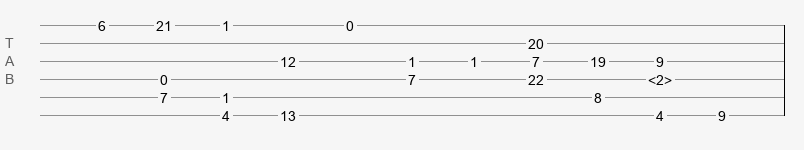0: (160, 72, 168, 82), (346, 18, 354, 28)
1: (222, 18, 230, 28), (222, 90, 230, 100), (408, 54, 416, 64), (470, 54, 478, 64)
12: (280, 54, 296, 64)
13: (280, 108, 296, 118)
19: (590, 54, 606, 64)
20: (528, 36, 544, 46)
21: (156, 18, 172, 28)
22: (528, 72, 544, 82)
4: (222, 108, 230, 118), (656, 108, 664, 118)
6: (98, 18, 106, 28)
7: (160, 90, 168, 100), (408, 72, 416, 82), (532, 54, 540, 64)
8: (594, 90, 602, 100)
9: (656, 54, 664, 64), (718, 108, 726, 118)
harmonic: (648, 72, 672, 82)
